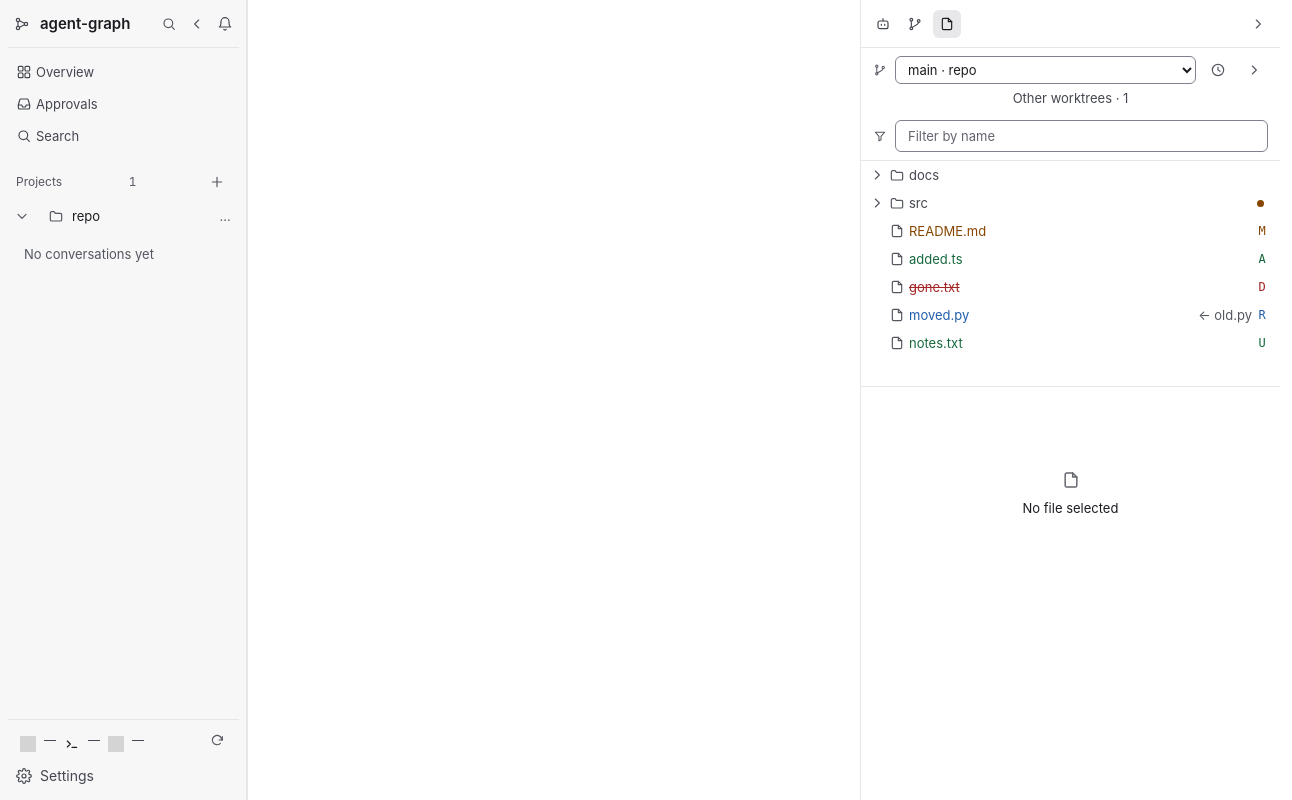
Test case: Files explorer › opens a file with line numbers and syntax colours and keeps the path in the address
expect the list is shown: met, box [861, 161, 1280, 357]
Step 1. Click the element showing "README.md M" → (948, 231), box [889, 223, 1266, 239]
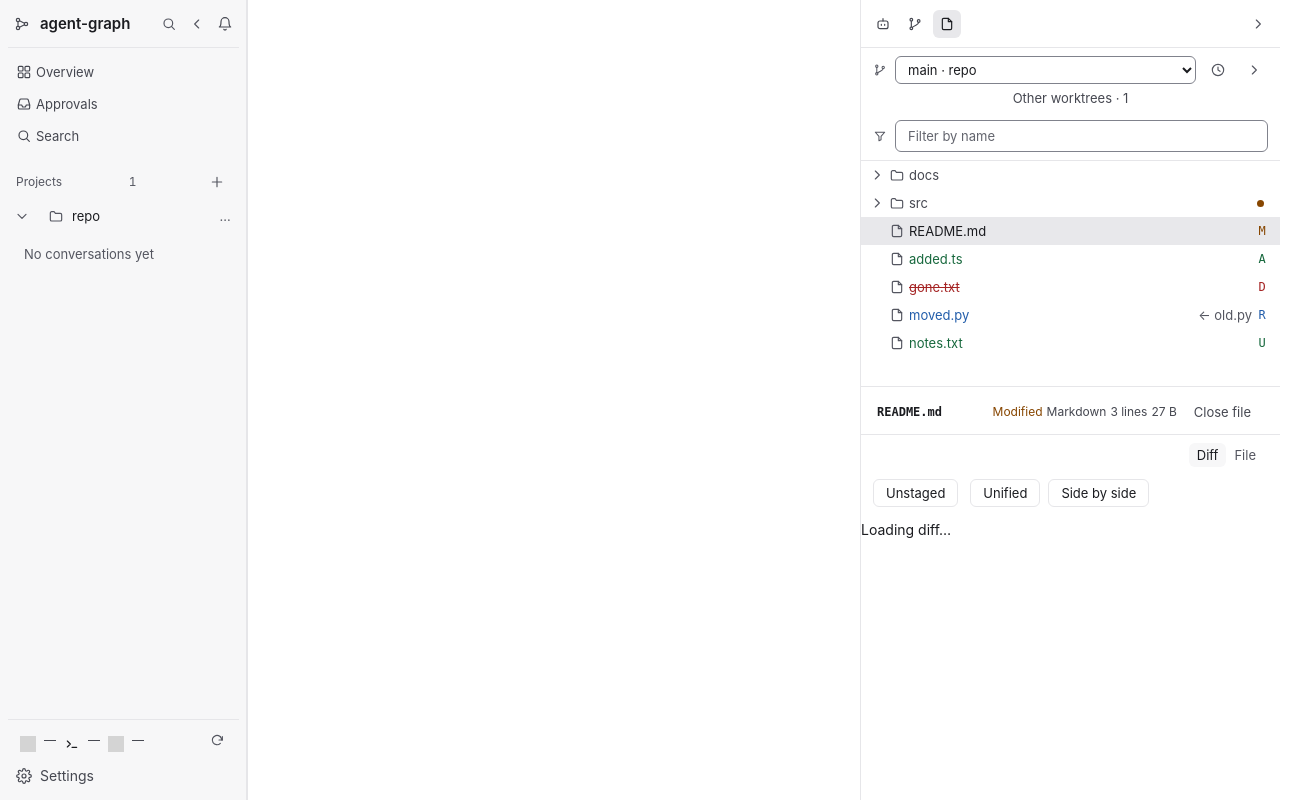
Step 2. Click the button "File" → (1245, 455), box [1226, 443, 1264, 467]
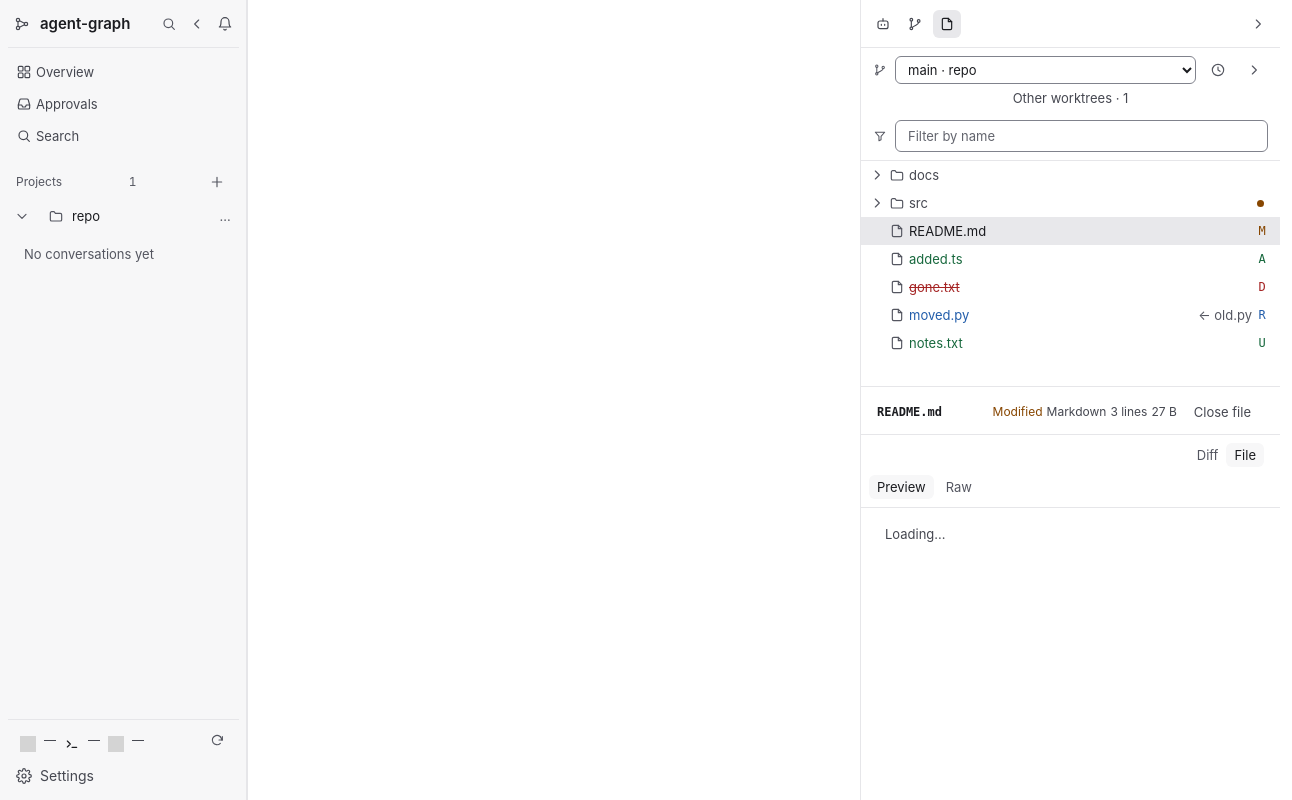
expect the element named "Contents of README.md" is shown: met, box [885, 526, 946, 542]
Step 3. Click the button "Raw" → (959, 487), box [938, 475, 980, 499]
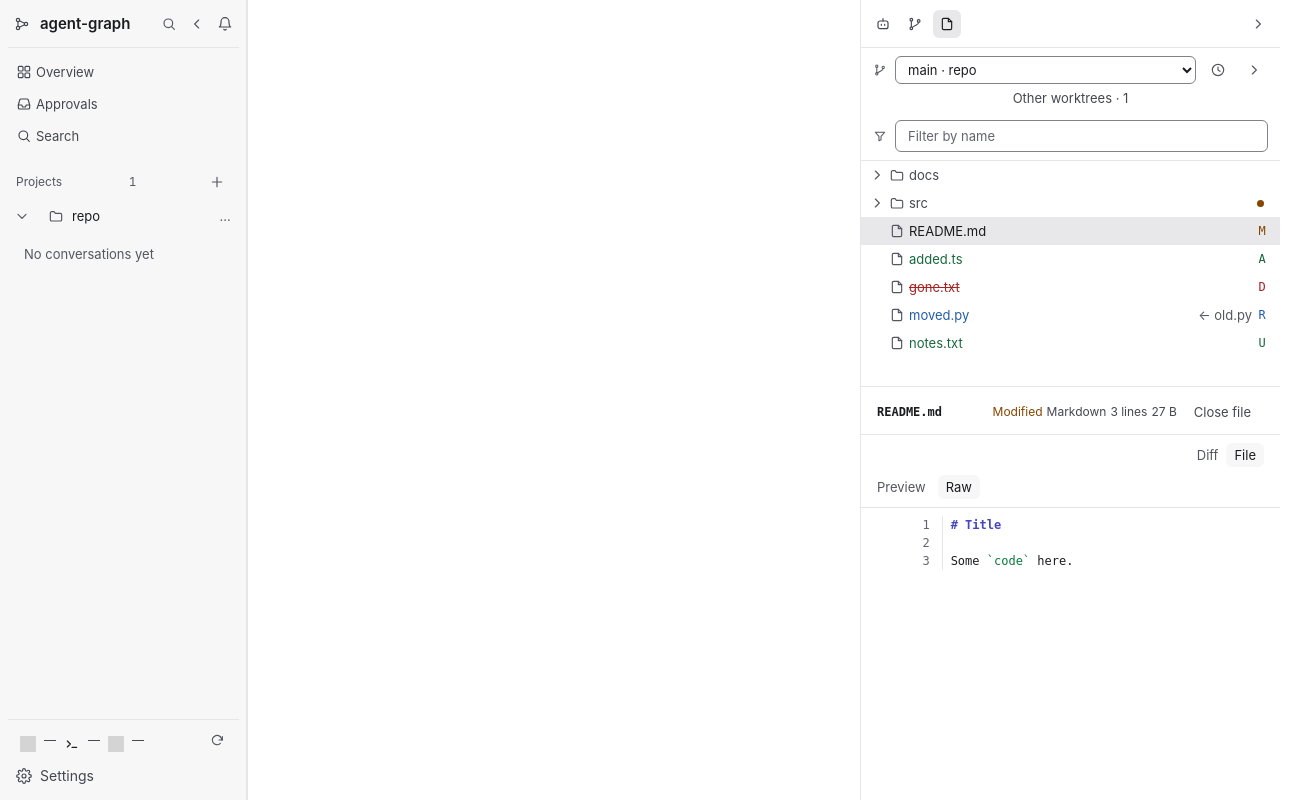
expect the text "Markdown" is shown: met, box [1046, 404, 1106, 419]
expect the text with class "tok-heading" reads "# Title": met, box [951, 518, 1001, 532]
expect the text with class "tok-code" reads "`code`": met, box [987, 554, 1030, 568]
